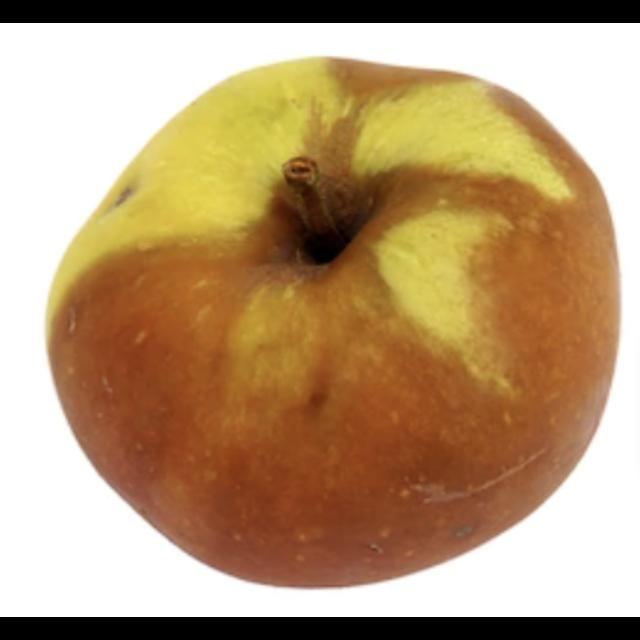Apel Tidak Segar: (37, 49, 628, 596)
